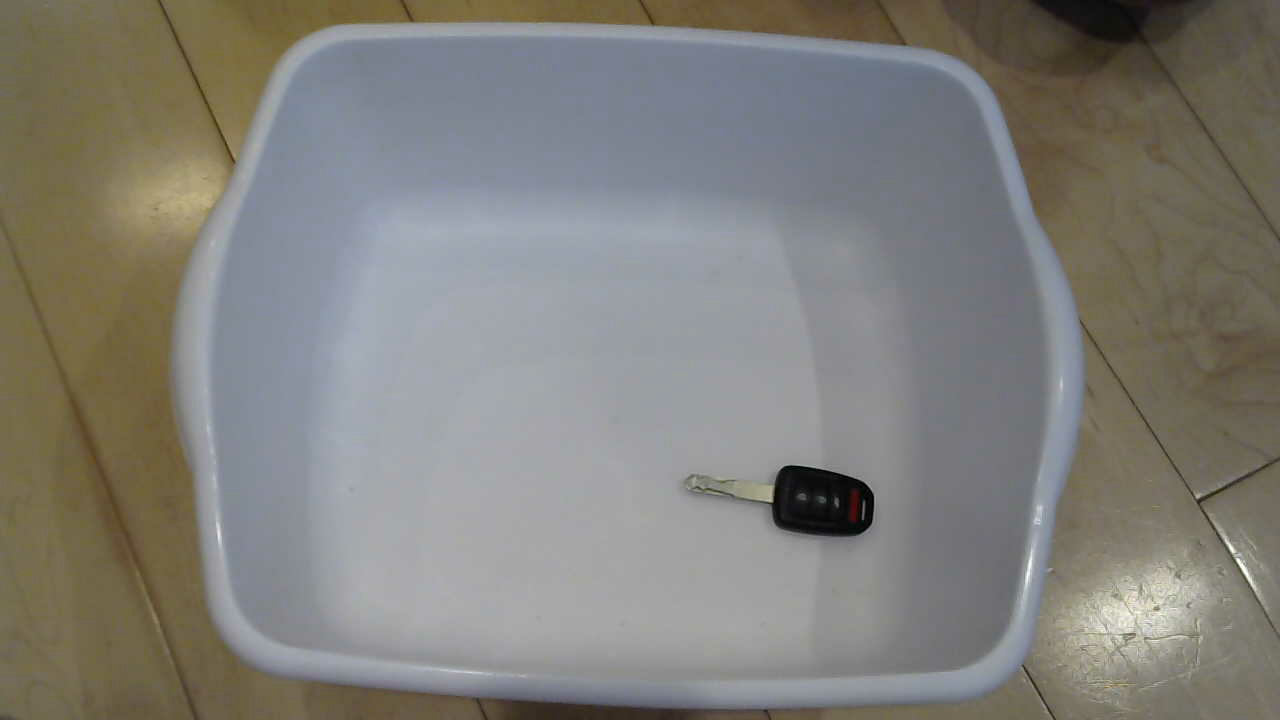key: (665, 459, 891, 560)
